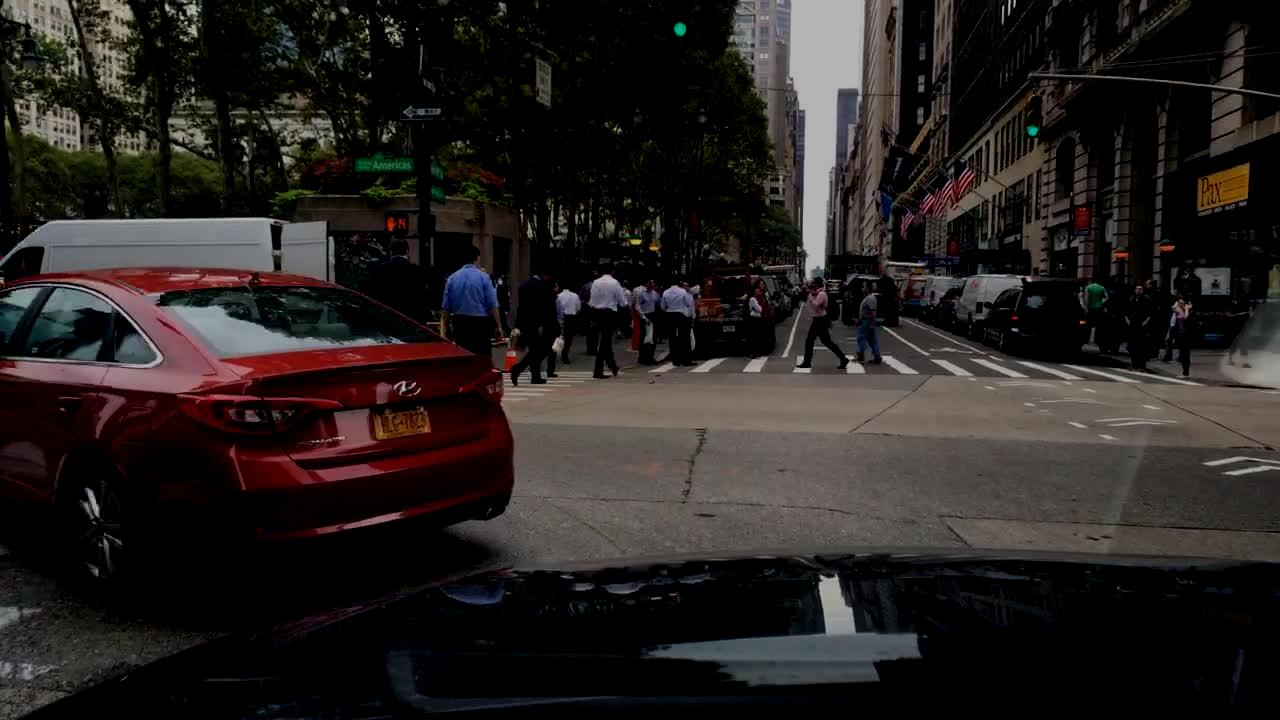Hyundai: (372, 367, 434, 404)
